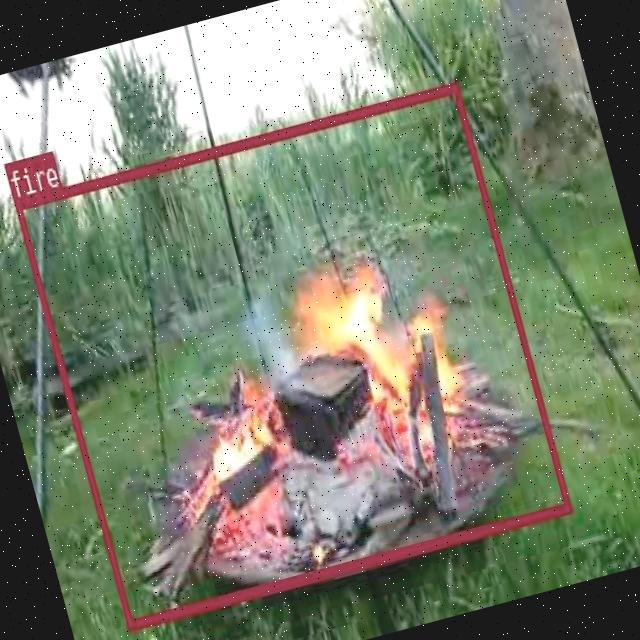fire: (12, 80, 571, 630)
